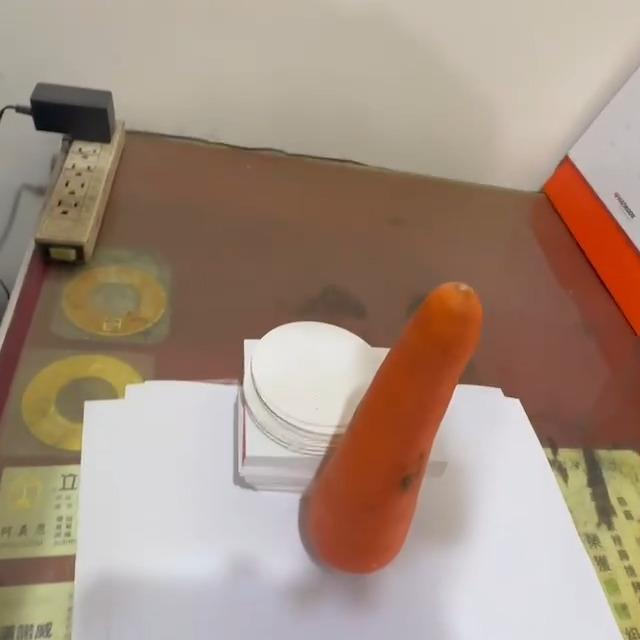carrot: (300, 277, 483, 578)
